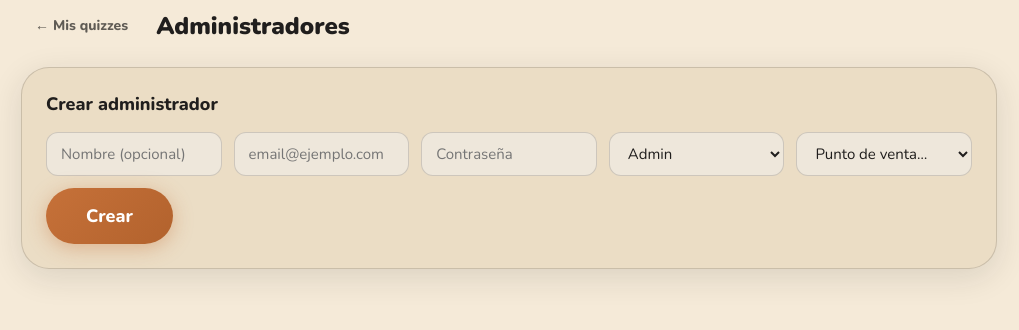
Test: AdminsView — create form › refuses to submit without a punto de venta and never hits the network
Type "n@x.com" into the field with id "email-input" at [321, 154], box [234,132,409,176]
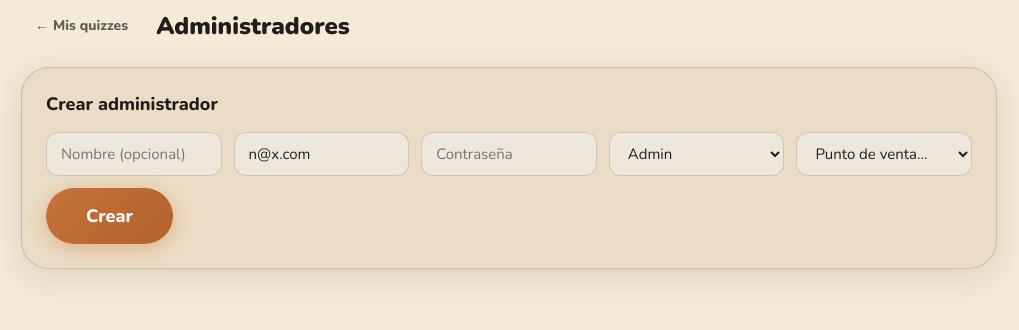
Type "pw12345" into the password field with placeholder "Contraseña" at [509, 154], box [421,132,597,176]
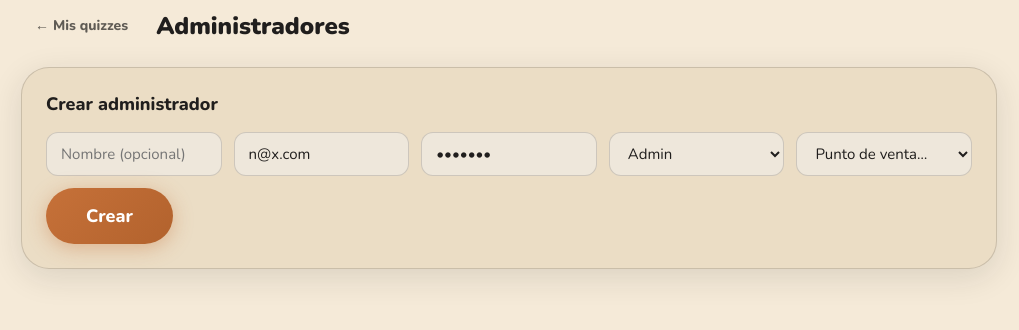
Submit the form, box [46,132,972,244]
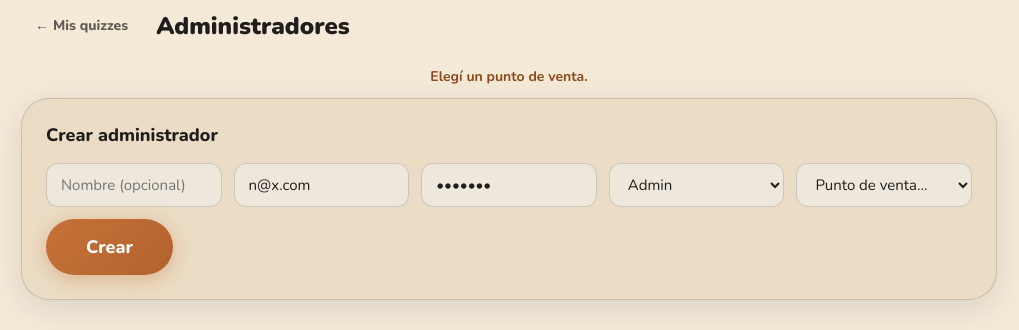
Now the message "Elegí un punto de venta." is shown, box [430,67,588,86]
